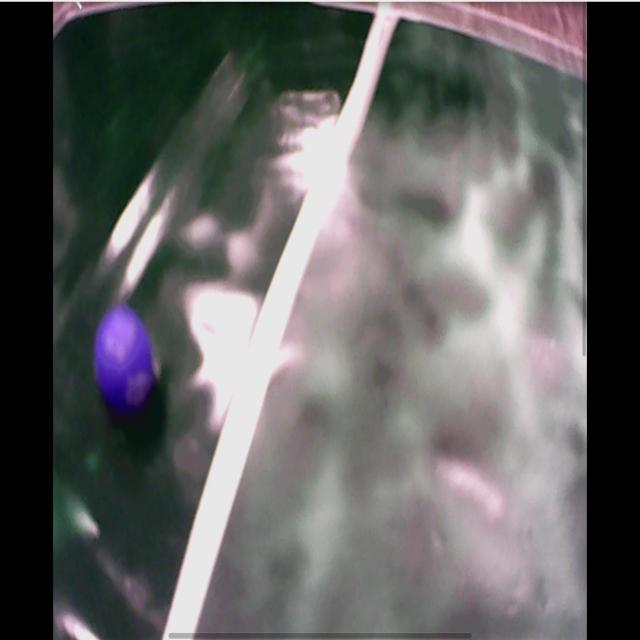ball: (94, 310, 159, 408)
